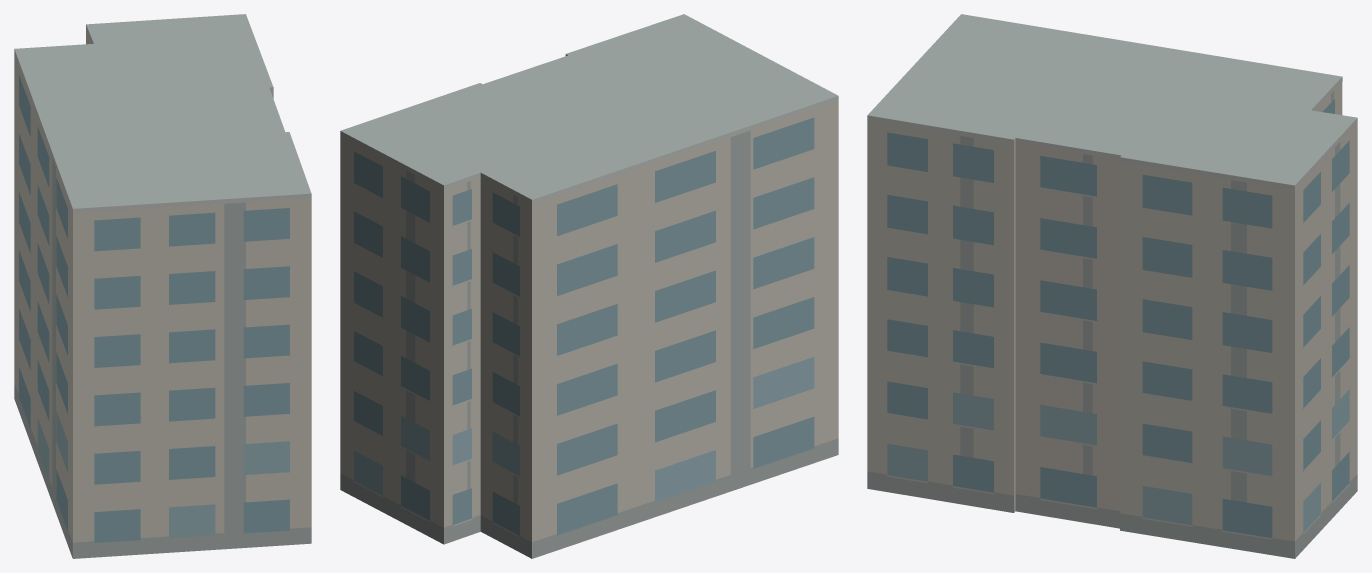
The model's file is survey-upis-32563953.glb.
3 views of the same model, side by side, from view 1: azimuth 30°, elevation 25°; view 2: azimuth 150°, elevation 25°; view 3: azimuth 270°, elevation 25° (orthographic). The views are drawn at different scales.
Parts seen in each view (by area): view 1: survey-upis-32563953.tmp; view 2: survey-upis-32563953.tmp; view 3: survey-upis-32563953.tmp.
Boxes of the visible parts, bbox=[...] form: survey-upis-32563953.tmp: bbox=[14, 14, 311, 558]; survey-upis-32563953.tmp: bbox=[340, 14, 838, 558]; survey-upis-32563953.tmp: bbox=[867, 14, 1357, 558].
Bounding box in the file's own units: 18.04 × 18.3 × 21.79.
